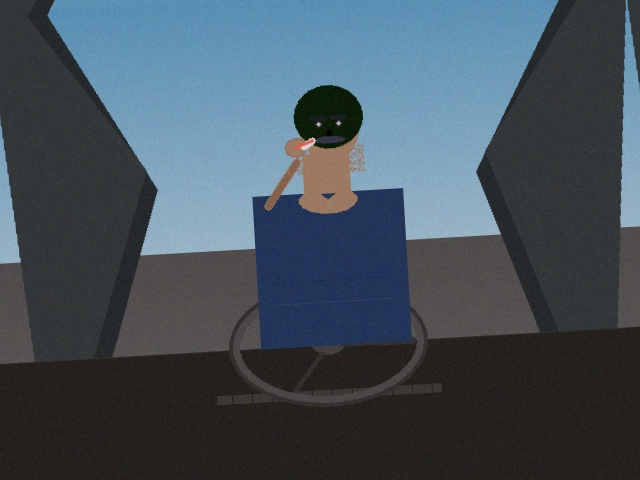smoking: (291, 131, 319, 161)
